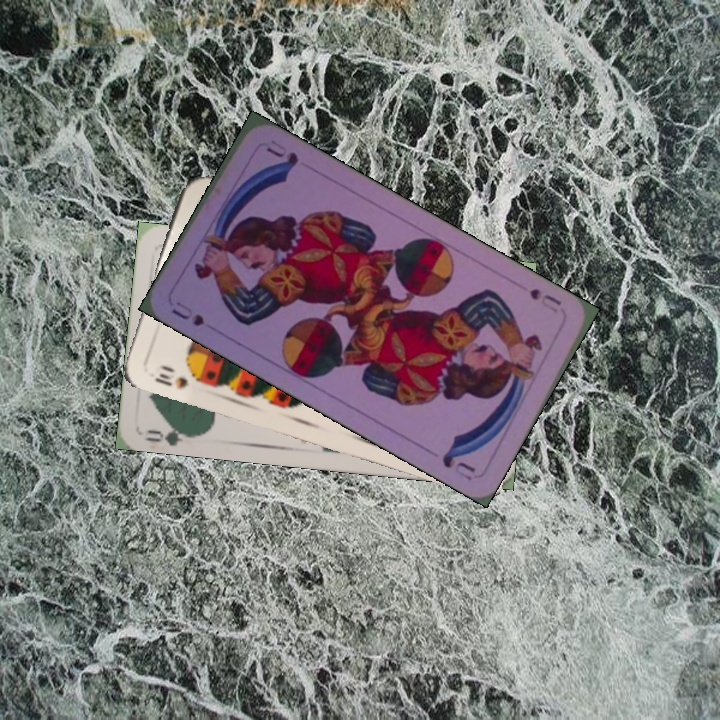GO: (142, 418, 201, 447)
S10: (150, 360, 191, 392)
SU: (167, 297, 207, 329), (525, 284, 564, 308)
